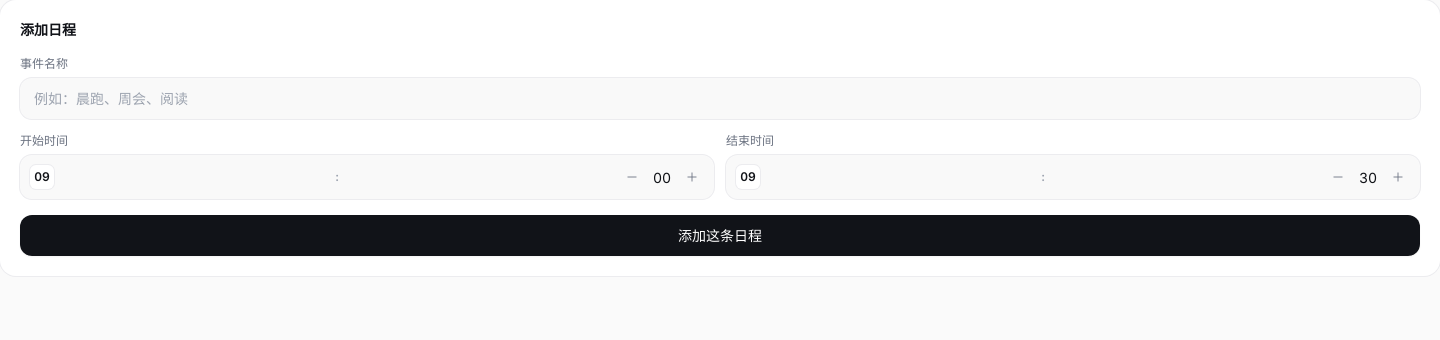
it: AddScheduleForm › validates empty title and invalid time span
The width and height of the screenshot is (1440, 340).
# Empty title
Click the button "添加这条日程": (720,236) [20, 215, 1420, 256]
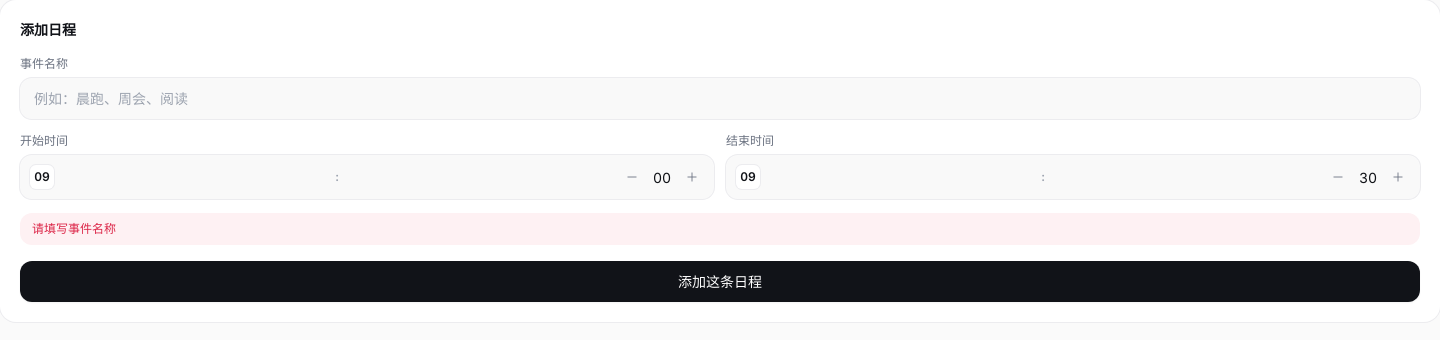
Now the message reads "请填写事件名称", box [32, 221, 116, 236]
In the field with placeholder "例如：晨跑、周会、阅读": (720,98) [20, 78, 1420, 119], type "测试"
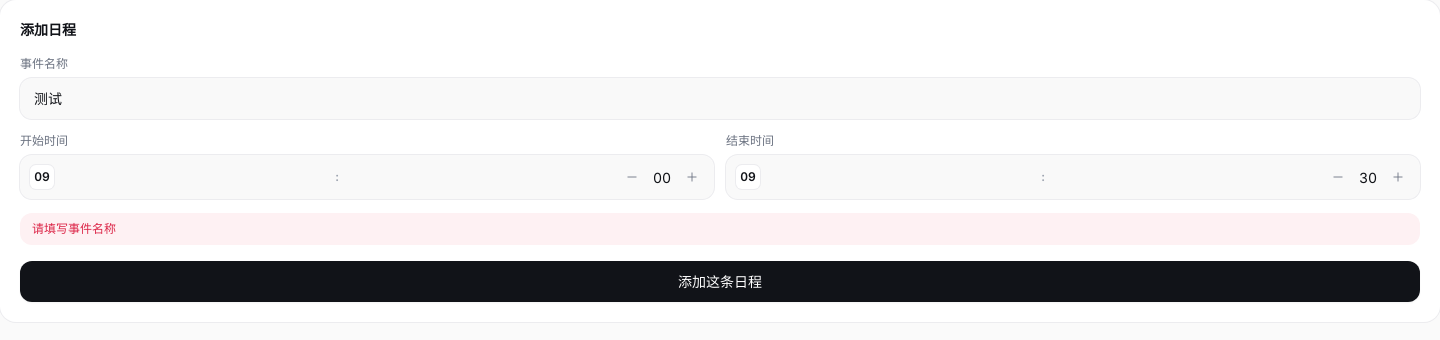
Replace the text in the field named "开始时间分钟" with "40": (662,177) [648, 165, 676, 189]
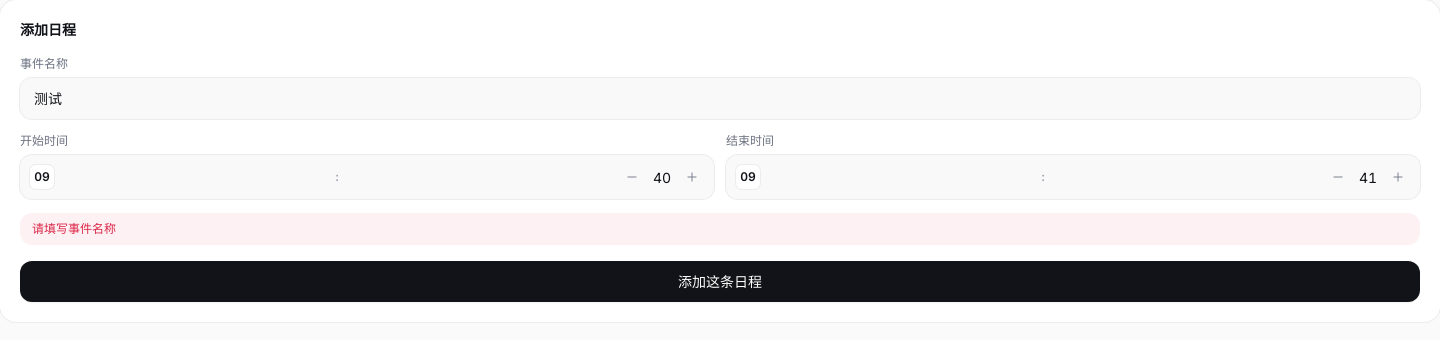
Replace the text in the field named "结束时间分钟" with "20": (1368,177) [1354, 165, 1382, 189]
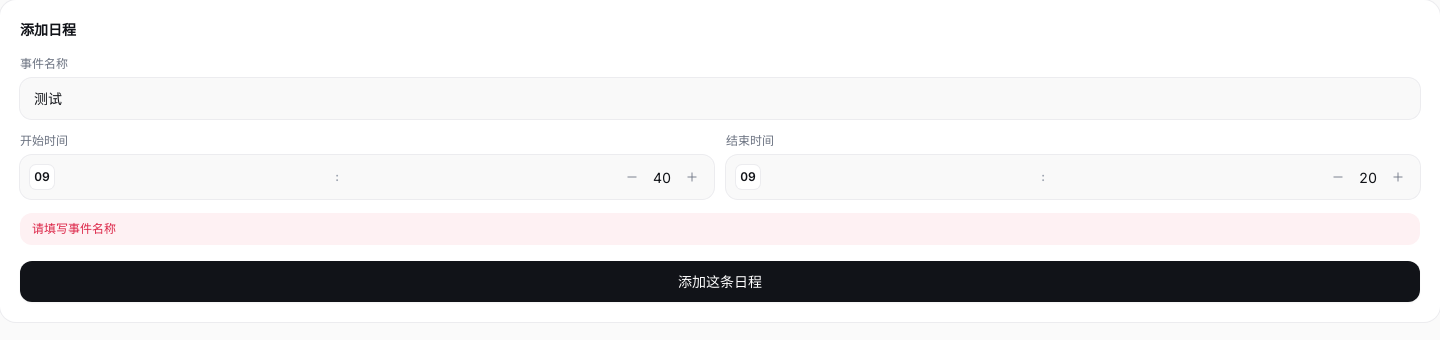
Click the button "添加这条日程": (720,282) [20, 261, 1420, 302]
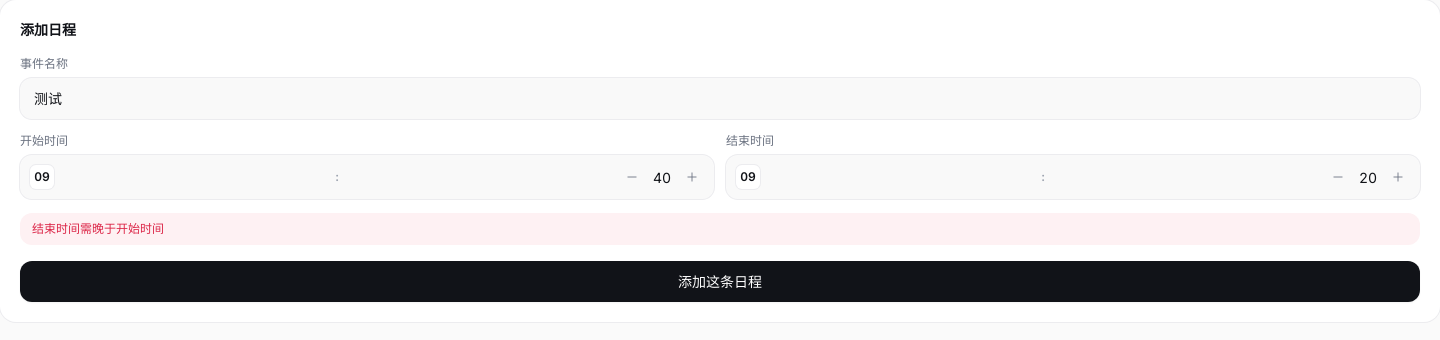
Now the message reads "结束时间需晚于开始时间", box [32, 221, 164, 236]
